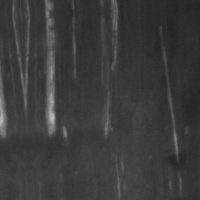scratches: (36, 14, 69, 142), (96, 11, 125, 142), (160, 35, 183, 168)
